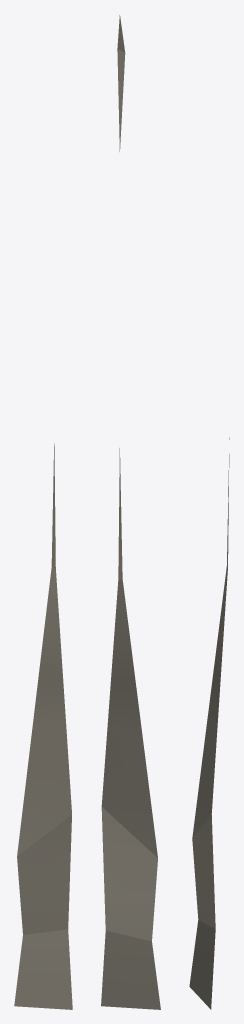
The picture shows the model from 3 angles, left to right: view 1: azimuth 30°, elevation 25°; view 2: azimuth 210°, elevation 25°; view 3: azimuth 330°, elevation 25°; orthographic projection. The views are drawn at different scales.
Size of the model in its own units: 0.00335 by 0.0783 by 0.00267.
1 material, 1 textured.
